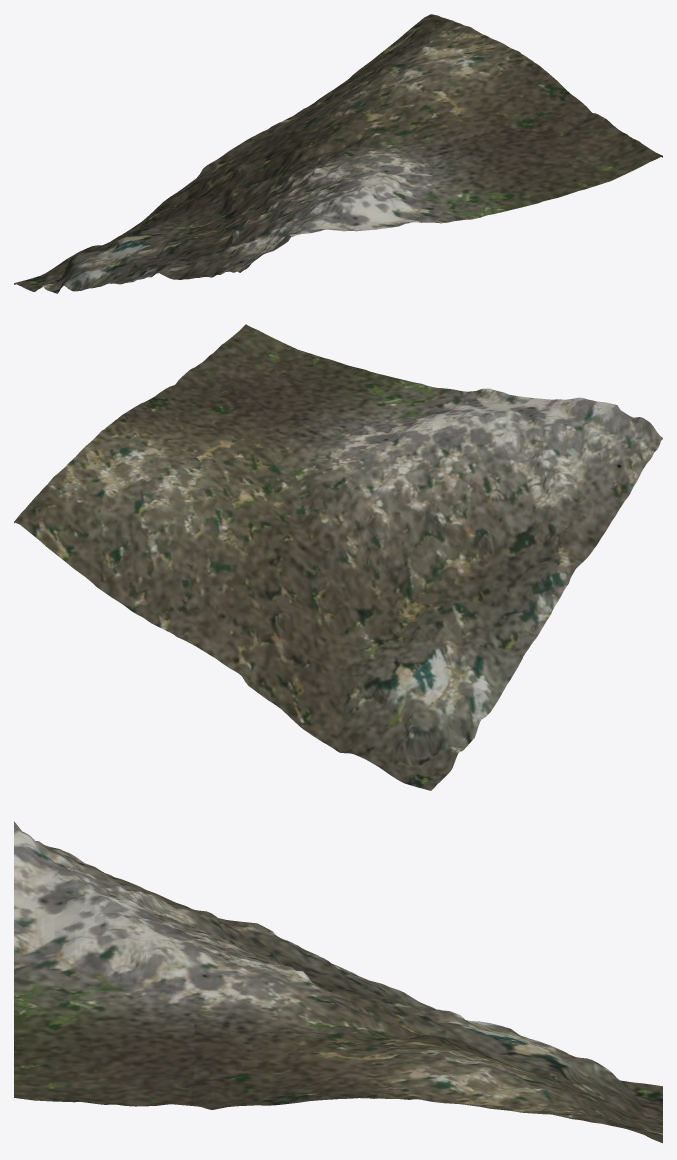
3 views of the same model, one above another, from view 1: azimuth 30°, elevation 25°; view 2: azimuth 150°, elevation 25°; view 3: azimuth 270°, elevation 25° (orthographic). The views are drawn at different scales.
Size of the model in its own units: 250 by 119 by 241.
1 material, 1 textured.
